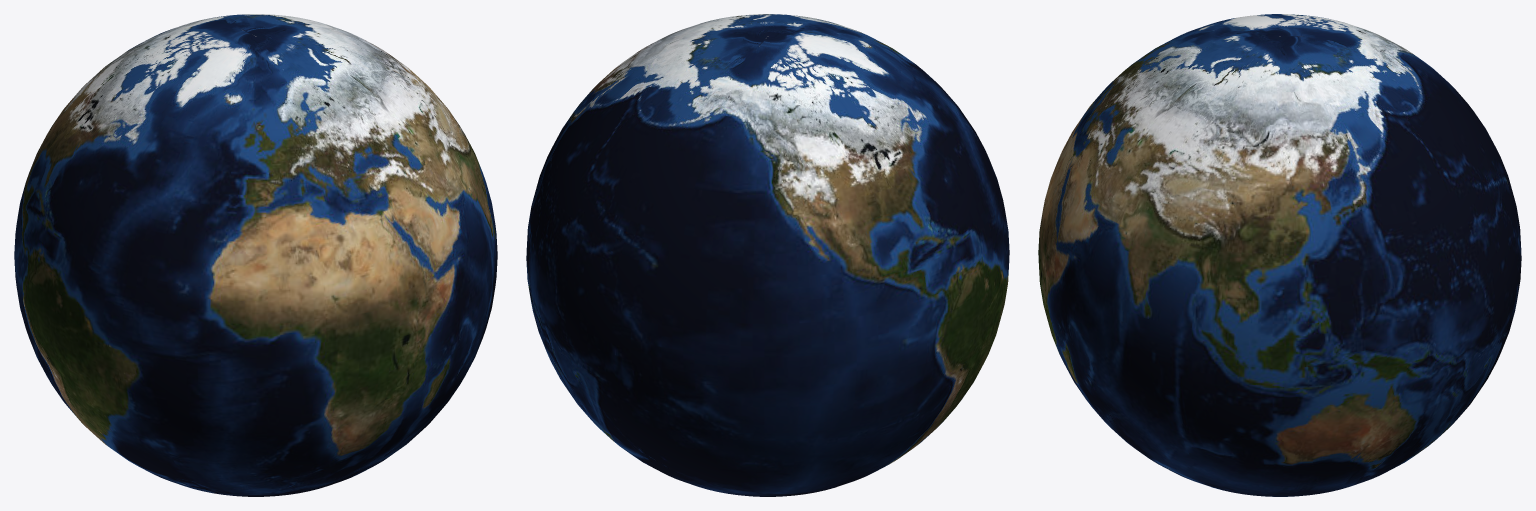
Rendered from earth.glb.
3 renders of one model, left to right at view 1: azimuth 30°, elevation 25°; view 2: azimuth 150°, elevation 25°; view 3: azimuth 270°, elevation 25°, orthographic.
Visible parts, largest first — view 1: frame_0; view 2: frame_0; view 3: frame_0.
Boxes of the visible parts, x1,y1,x2,y2 form: frame_0: (14, 14, 497, 496); frame_0: (526, 14, 1009, 496); frame_0: (1038, 14, 1521, 496).
Bounding box in the file's own units: 2.52 × 2.52 × 2.52.
Materials: 12 (12 with a texture image).
